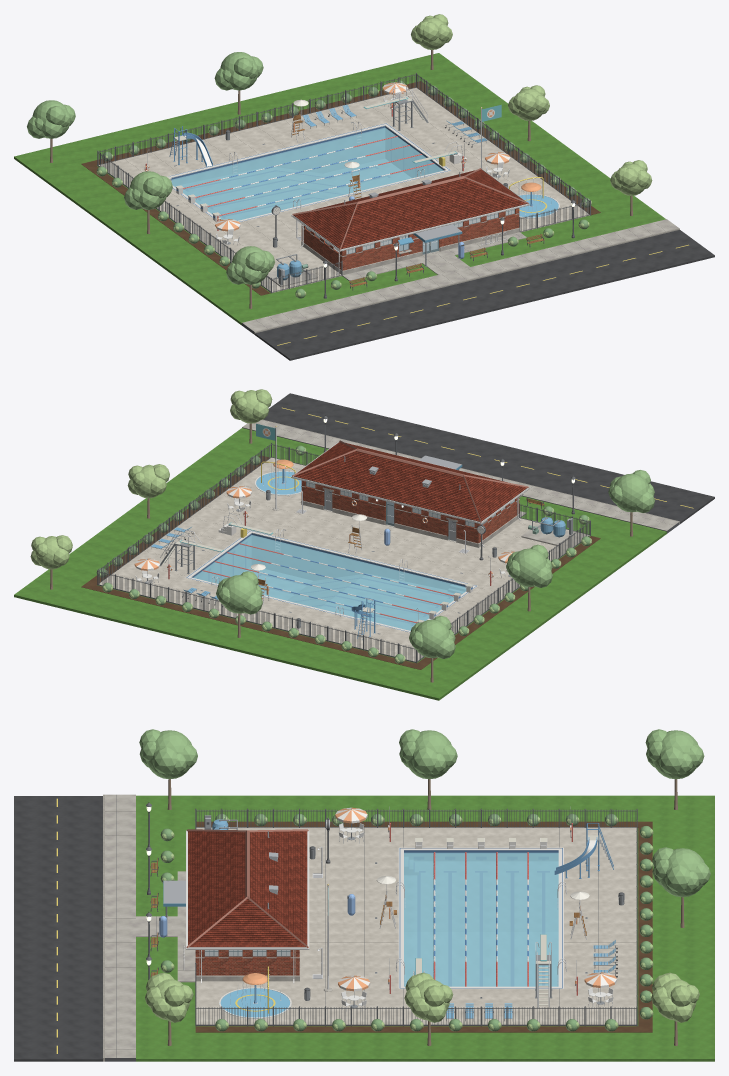
File: building_assembled.glb
3 views of the same model, one above another, from view 1: azimuth 30°, elevation 25°; view 2: azimuth 150°, elevation 25°; view 3: azimuth 270°, elevation 25° (orthographic). The views are drawn at different scales.
Visible parts, largest first — view 1: geometry_671, geometry_425, geometry_669, geometry_432, geometry_430, geometry_666, geometry_196, geometry_670, geometry_428, geometry_771, geometry_775, geometry_779 (+8 smaller); view 2: geometry_671, geometry_425, geometry_669, geometry_432, geometry_430, geometry_202, geometry_670, geometry_666, geometry_783, geometry_775, geometry_771, geometry_779 (+10 smaller); view 3: geometry_671, geometry_425, geometry_669, geometry_432, geometry_430, geometry_666, geometry_670, geometry_196, geometry_202, geometry_208, geometry_428, geometry_775 (+17 smaller).
Boxes of the visible parts, <box> form: geometry_671: <box>14,53,665,325</box>; geometry_425: <box>99,87,589,292</box>; geometry_669: <box>255,230,714,360</box>; geometry_432: <box>171,127,443,220</box>; geometry_430: <box>172,129,441,220</box>; geometry_666: <box>242,219,678,331</box>; geometry_196: <box>341,178,526,249</box>; geometry_670: <box>81,81,600,295</box>; geometry_428: <box>167,123,450,222</box>; geometry_771: <box>27,100,75,138</box>; geometry_775: <box>124,171,172,209</box>; geometry_779: <box>226,246,274,284</box>; geometry_671: <box>14,428,666,700</box>; geometry_425: <box>99,457,589,661</box>; geometry_669: <box>263,393,714,523</box>; geometry_432: <box>193,535,466,630</box>; geometry_430: <box>195,536,465,630</box>; geometry_202: <box>294,451,479,521</box>; geometry_670: <box>81,455,600,669</box>; geometry_666: <box>242,420,678,530</box>; geometry_783: <box>216,571,262,614</box>; geometry_775: <box>506,544,552,587</box>; geometry_771: <box>409,615,455,658</box>; geometry_779: <box>608,470,654,512</box>; geometry_671: <box>136,795,714,1061</box>; geometry_425: <box>196,827,636,1024</box>; geometry_669: <box>14,796,102,1061</box>; geometry_432: <box>404,852,558,986</box>; geometry_430: <box>404,854,557,985</box>; geometry_666: <box>105,794,195,1057</box>; geometry_670: <box>195,821,652,1032</box>; geometry_196: <box>188,831,245,944</box>; geometry_202: <box>250,831,307,944</box>; geometry_208: <box>189,899,305,947</box>; geometry_428: <box>398,847,563,988</box>; geometry_775: <box>399,729,457,779</box>.
Bounding box in the file's own units: 48.04 × 13.02 × 54.
Materials: 68 (13 with a texture image).
